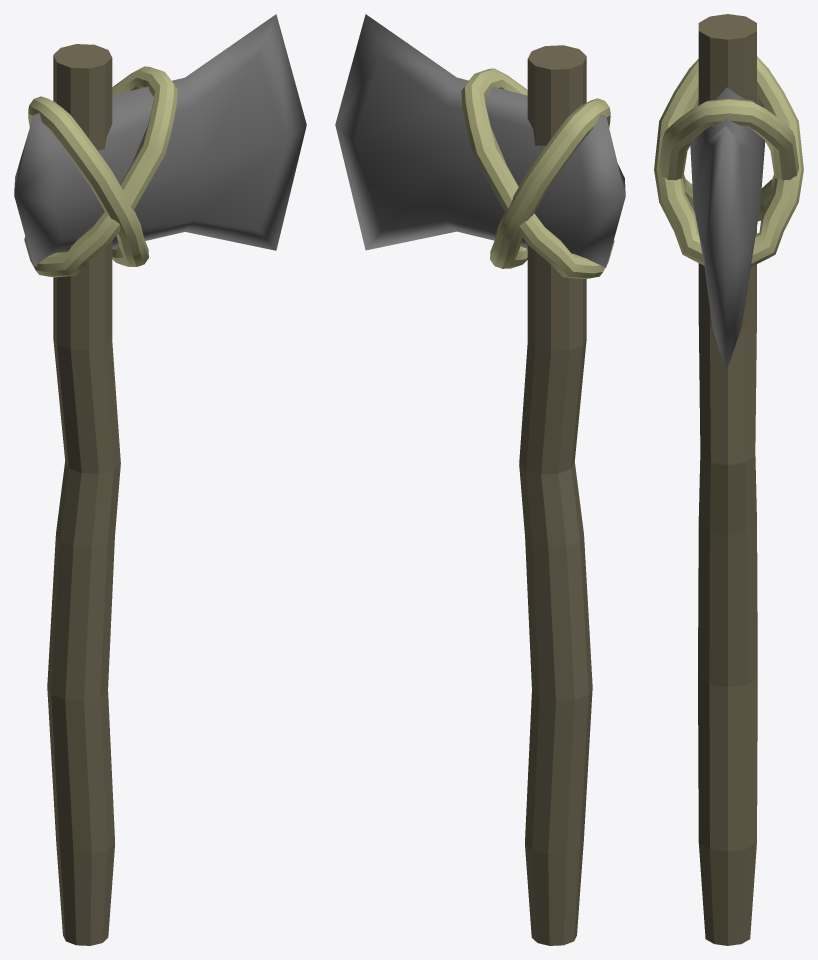
Rendered from Axe.fbx.
3 renders of one model, left to right at view 1: azimuth 30°, elevation 25°; view 2: azimuth 150°, elevation 25°; view 3: azimuth 270°, elevation 25°, orthographic. The views are drawn at different scales.
Visible parts, largest first — view 1: pCylinder2; view 2: pCylinder2; view 3: pCylinder2.
Part boxes in pixels (x1,y1,x2,y2): pCylinder2: (14, 14, 306, 945); pCylinder2: (335, 14, 625, 945); pCylinder2: (654, 14, 803, 945).
Bounding box in the file's own units: 4.86 × 14.03 × 2.1.
